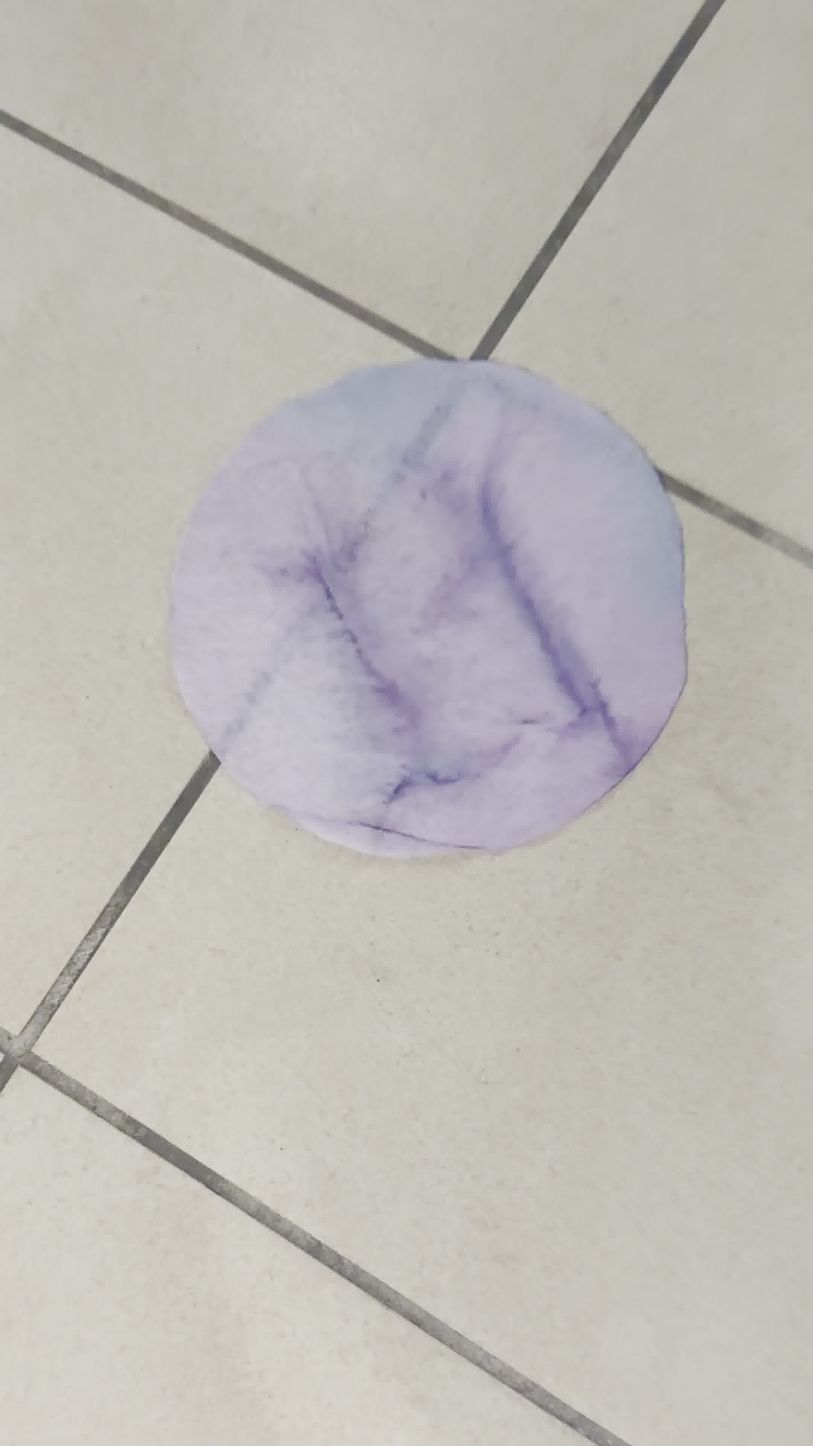Target: (161, 355, 688, 865)
